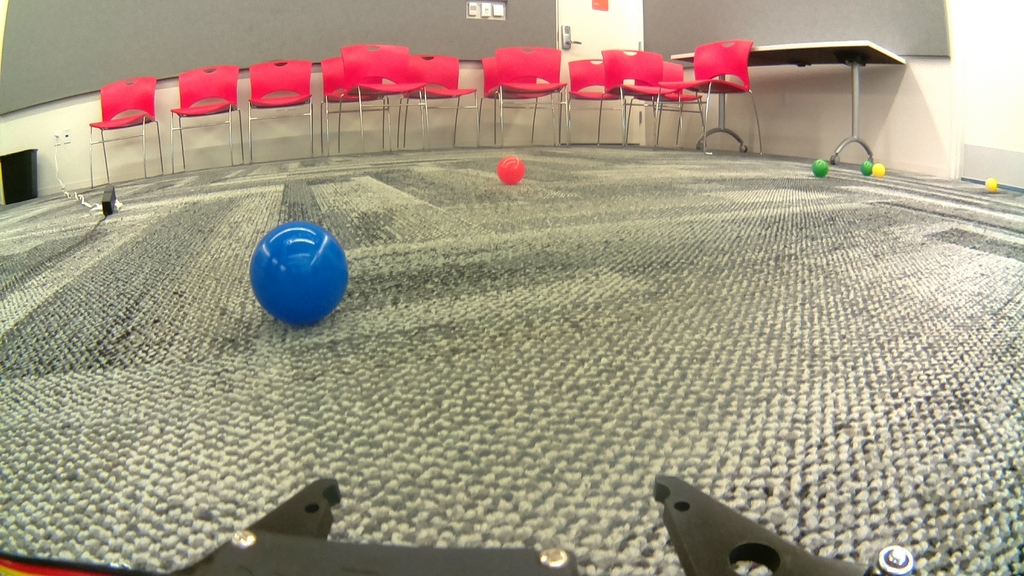ball: (251, 222, 350, 325)
